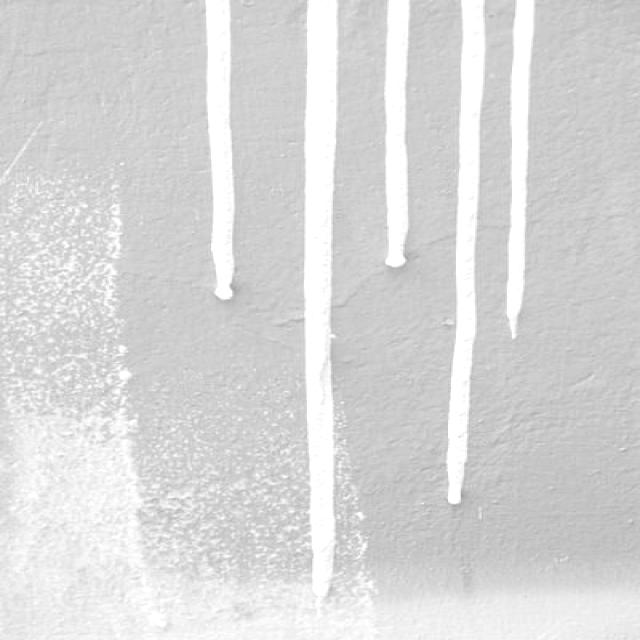paint drips: (292, 0, 357, 603), (442, 0, 489, 505), (492, 1, 557, 342), (177, 0, 243, 304), (377, 0, 421, 273)
